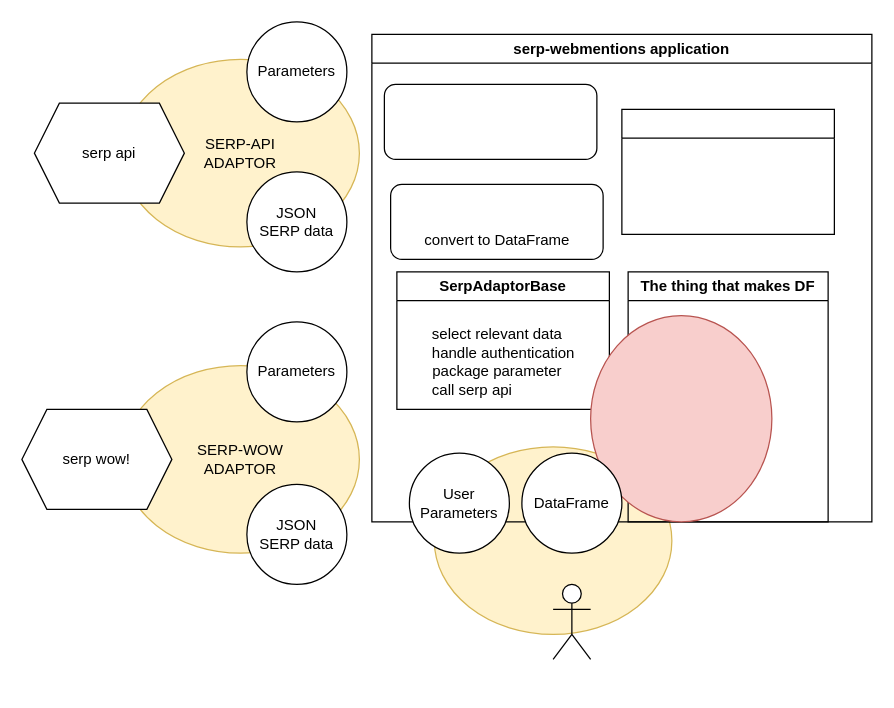
This 894x708 diagram has some shape labels left out. Each missing label, with the centre of its shape:
Actor: (571,621)
WebMention: (727,171)
where we got to: (680,418)
